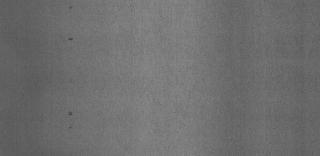oil spot: (66, 110, 76, 134), (68, 34, 72, 42), (68, 4, 72, 10)
